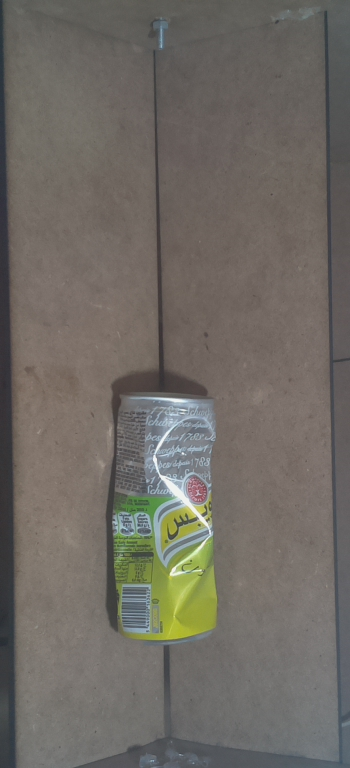Canette: (100, 378, 235, 655)
